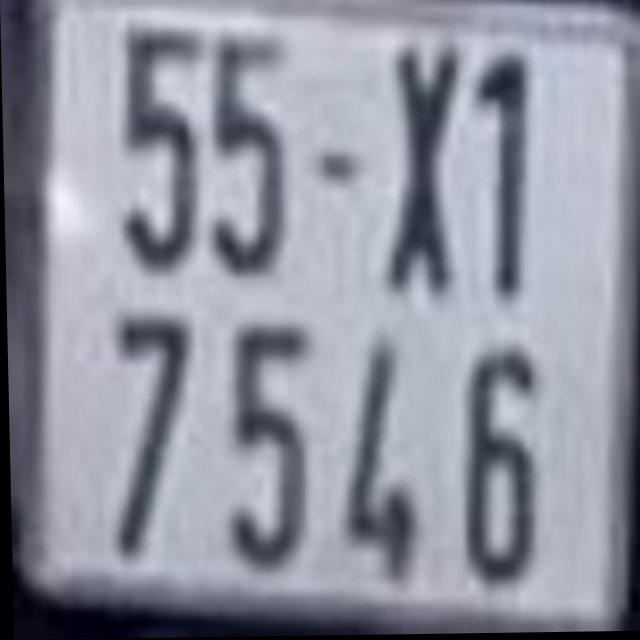1: (476, 51, 527, 300)
4: (348, 339, 416, 585)
5: (120, 17, 201, 270), (229, 324, 311, 566), (213, 34, 290, 275)
6: (457, 346, 535, 578)
7: (110, 312, 196, 558)
X: (389, 44, 462, 300)
